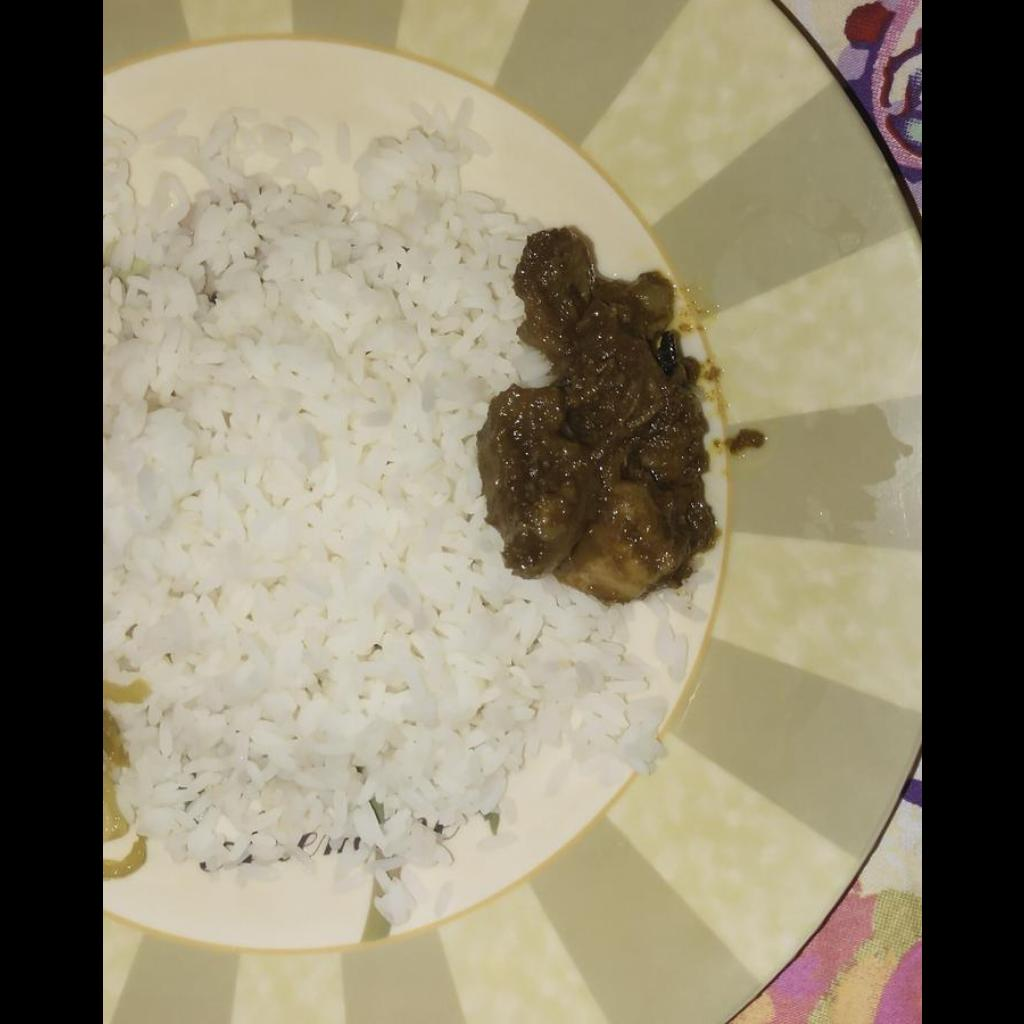beef: (477, 225, 714, 597)
rice: (102, 109, 688, 928)
